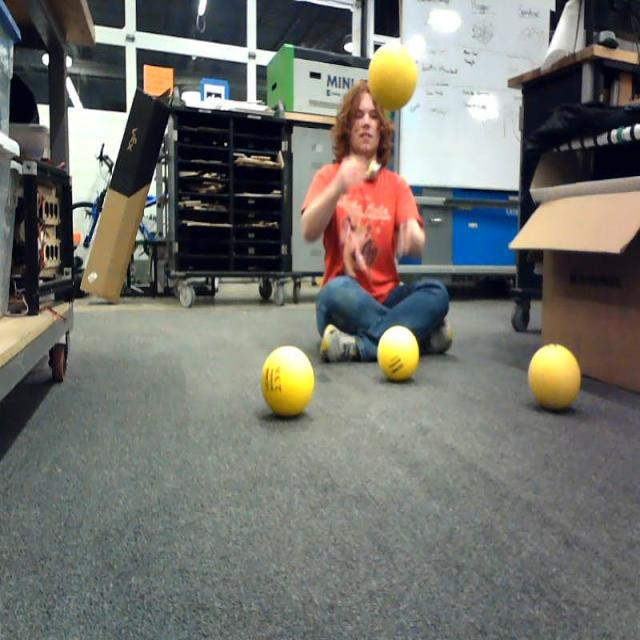Fuel: (260, 345, 314, 419), (528, 343, 581, 412), (368, 42, 418, 112), (377, 326, 420, 384)
